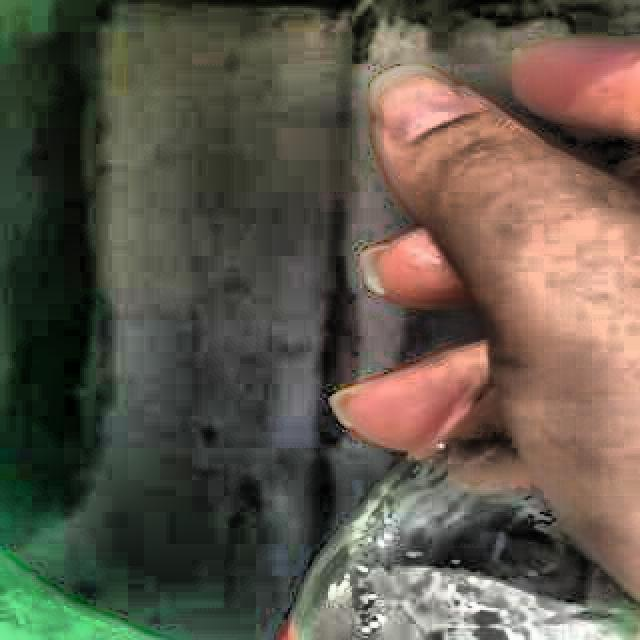glass: (293, 392, 640, 640)
